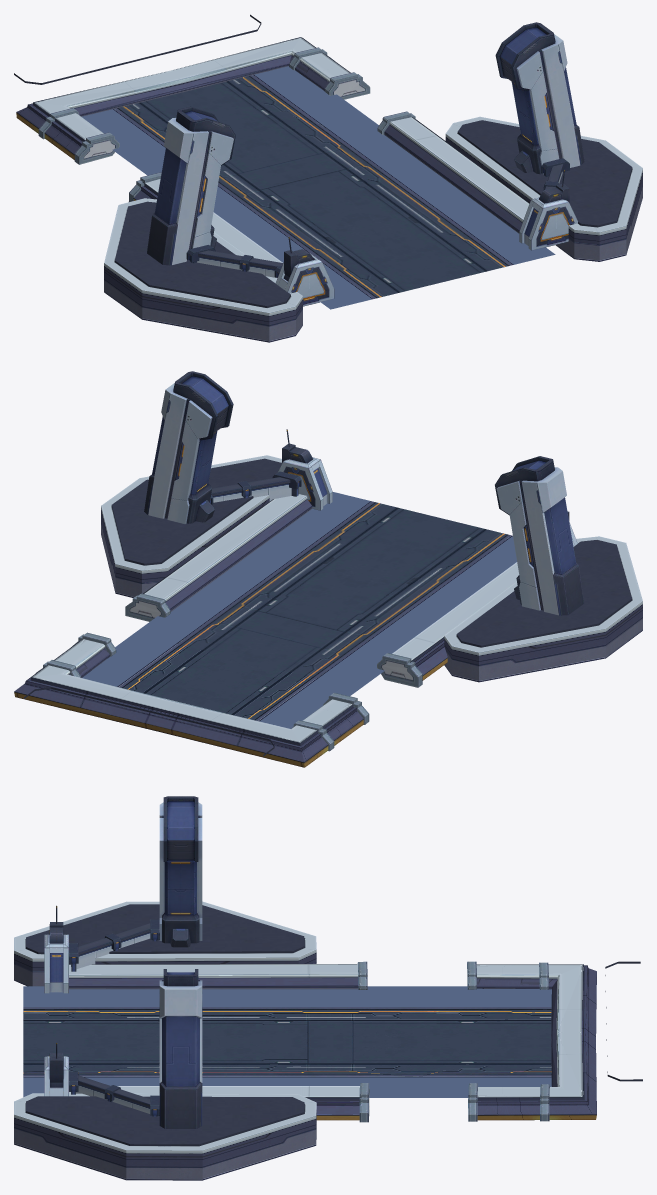
File: Scece_01_lu.FBX
The picture shows the model from 3 angles, top to bottom: view 1: azimuth 30°, elevation 25°; view 2: azimuth 150°, elevation 25°; view 3: azimuth 270°, elevation 25°; orthographic projection.
Visible parts, largest first — view 1: Scece_01_lu01, Scece_01_lu04, Scece_01_lu02, Scece_01_lu03, Object001; view 2: Scece_01_lu01, Scece_01_lu04, Scece_01_lu02, Scece_01_lu03, Object001; view 3: Scece_01_lu01, Scece_01_lu04, Scece_01_lu03, Scece_01_lu02, Object001.
Part boxes in pixels (x1,y1,x2,y2): Scece_01_lu01: [38, 47, 642, 342]; Scece_01_lu04: [147, 22, 584, 306]; Scece_01_lu02: [81, 66, 555, 309]; Scece_01_lu03: [14, 14, 632, 307]; Object001: [16, 37, 350, 159]; Scece_01_lu01: [36, 455, 642, 751]; Scece_01_lu04: [144, 371, 584, 615]; Scece_01_lu02: [82, 492, 516, 728]; Scece_01_lu03: [24, 458, 632, 756]; Object001: [14, 639, 363, 767]; Scece_01_lu01: [14, 901, 551, 1180]; Scece_01_lu04: [44, 796, 202, 1128]; Scece_01_lu03: [26, 904, 642, 1146]; Scece_01_lu02: [23, 986, 551, 1097]; Object001: [476, 964, 596, 1120].
Size of the model in its own units: 6.9 by 2.19 by 7.36.
4 materials, 4 textured.
